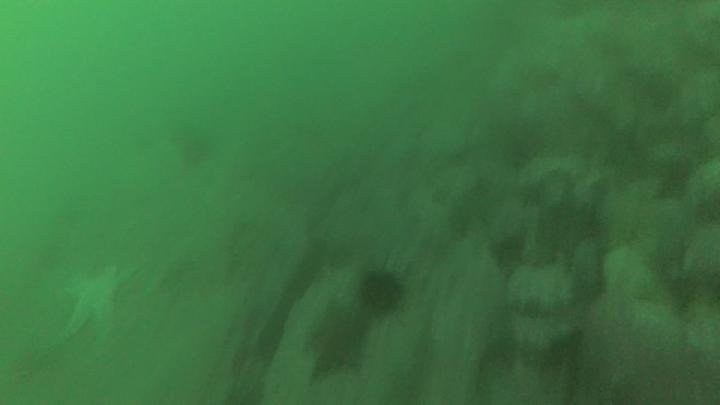echinus: (360, 275, 401, 315)
starfish: (55, 265, 135, 348), (304, 302, 369, 378)
